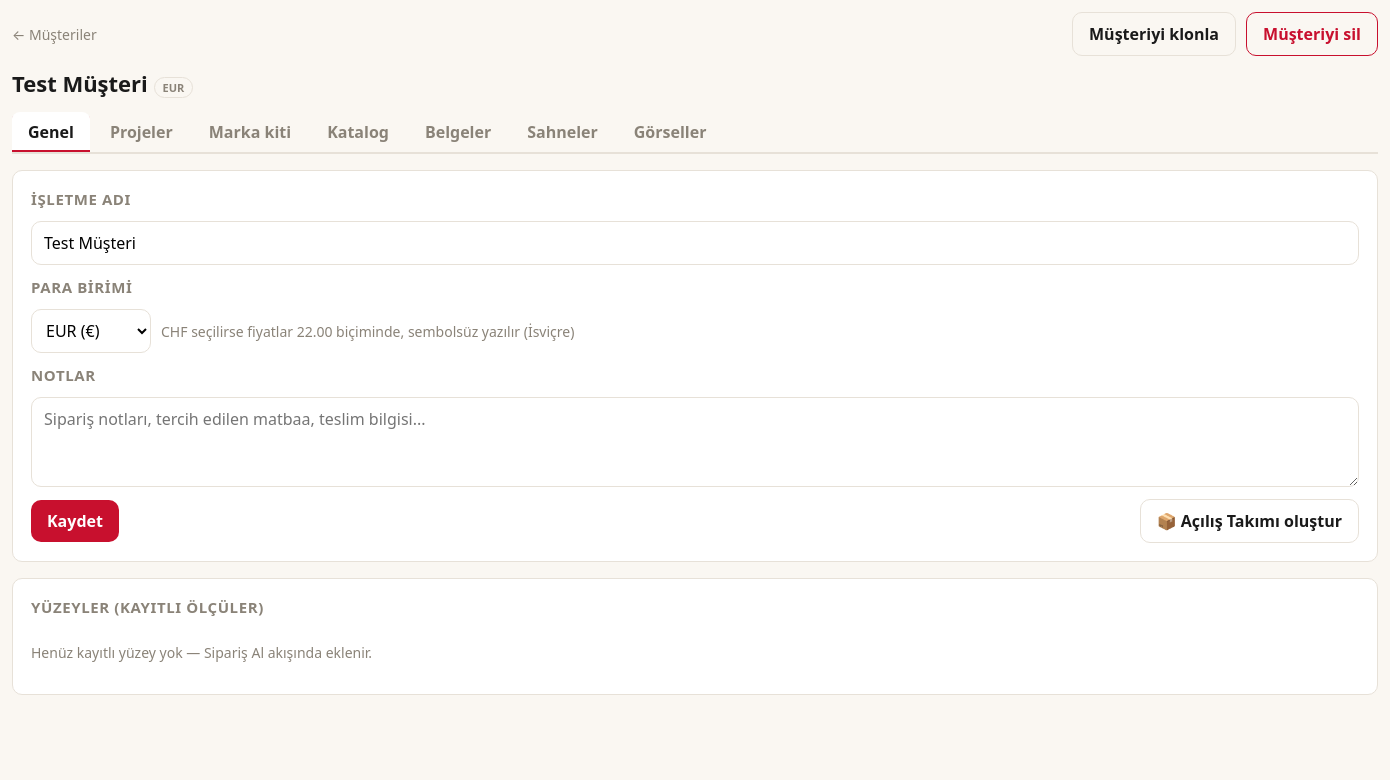
Test case: Açılış Takımı — preset + belgeler tek işlemde › İŞ KOLU DIŞI 409'unda GEREKÇE söylenir — düz hata kodu DEĞİL
Click the button "📦 Açılış Takımı oluştur": (1249, 521) [1140,499,1359,543]
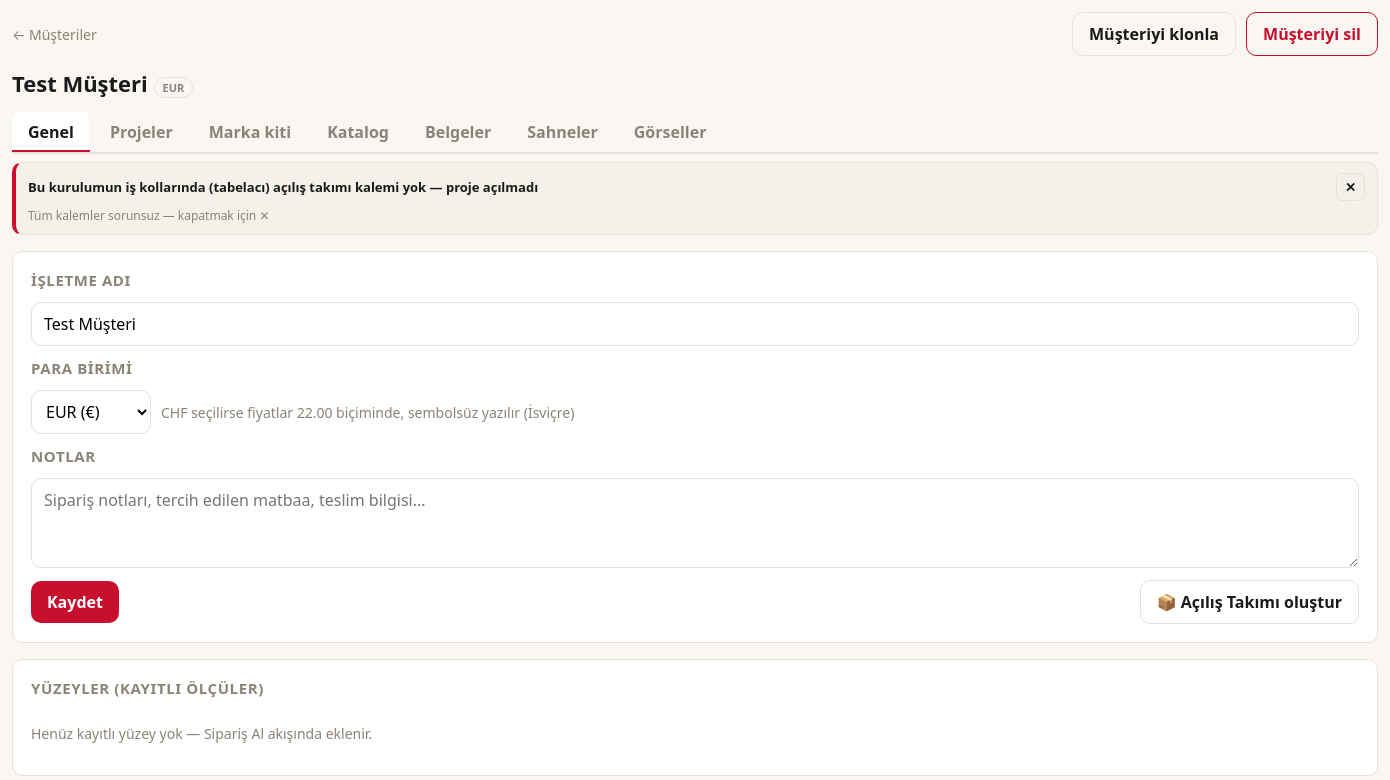
Expected: the text "açılış takımı kalemi yok" shows "tabelacı", [28,178,538,196]
